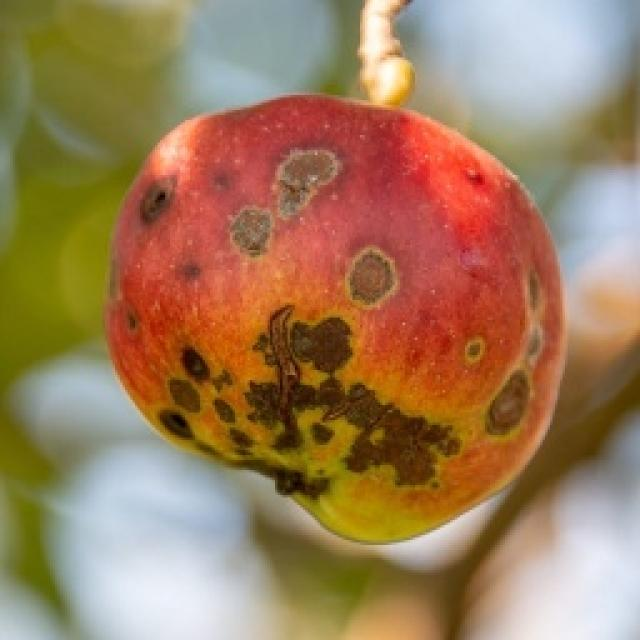healthy: (100, 88, 570, 545)
